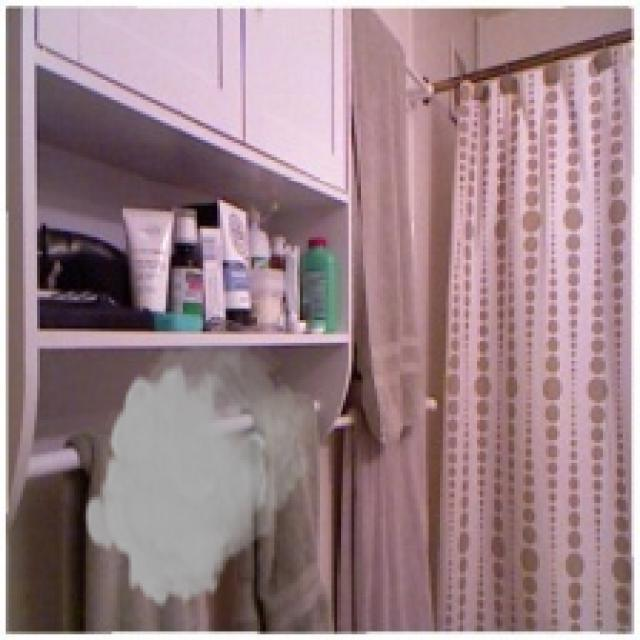Smoke: (82, 343, 318, 611)
